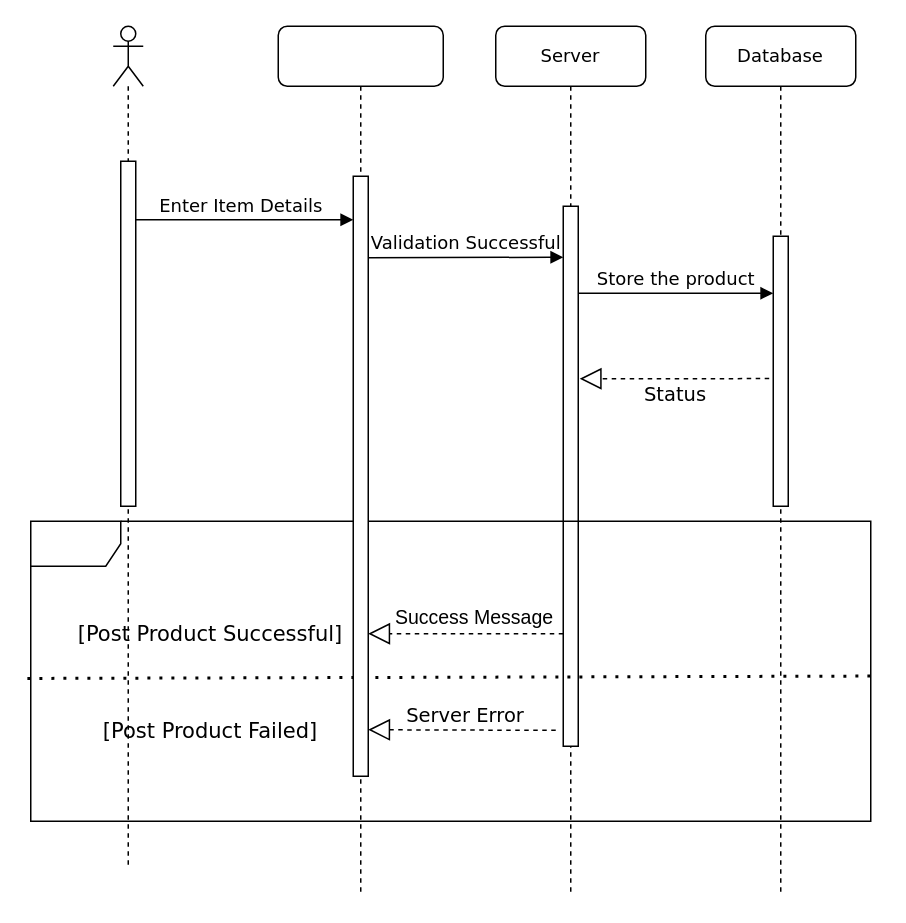
The diagram is 906 pixels wide and 923 high, and some of its shapes have lost their labels. The shapes that lost their labels are listed below. From the top down, each one's box as (x1, y1, x2, y2) in pixels, then its label:
(277, 25, 443, 896): Form Validation
(29, 520, 871, 821): alt
